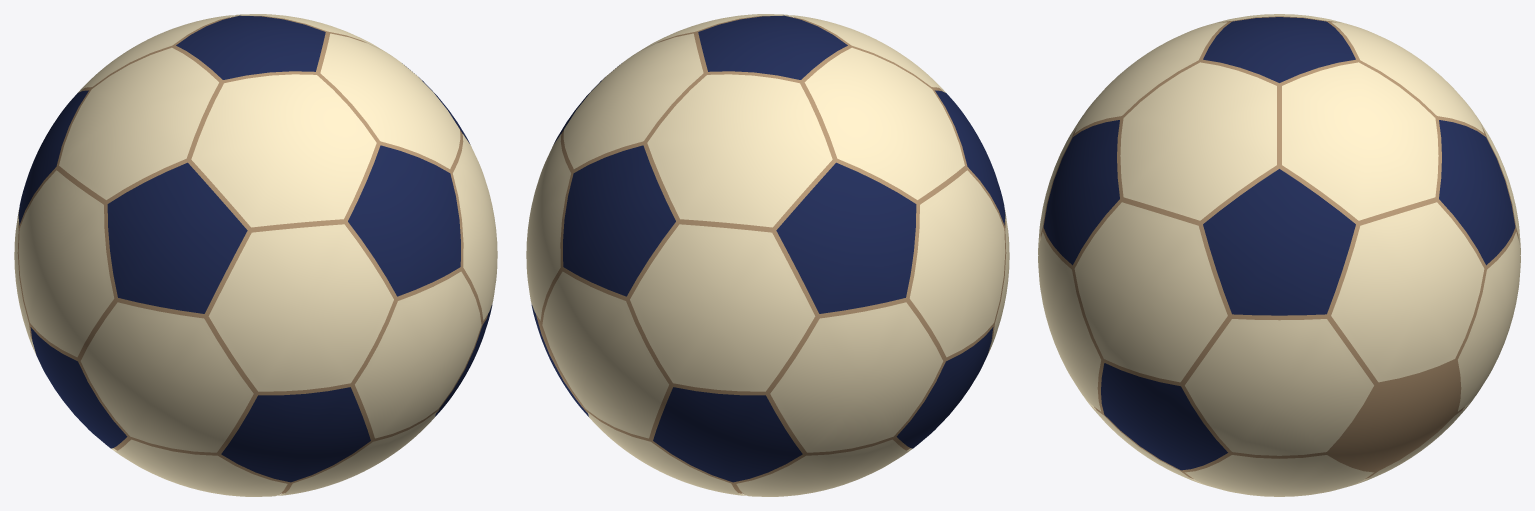
File: football.glb
3 views of the same model, side by side, from view 1: azimuth 30°, elevation 25°; view 2: azimuth 150°, elevation 25°; view 3: azimuth 270°, elevation 25° (orthographic).
Visible parts, largest first — view 1: Football cream hexagons and navy pentagons, Football recessed seams; view 2: Football cream hexagons and navy pentagons, Football recessed seams; view 3: Football cream hexagons and navy pentagons, Football recessed seams.
Part boxes in pixels (bbox=[...]): Football cream hexagons and navy pentagons: bbox=[14, 14, 497, 496]; Football recessed seams: bbox=[17, 16, 487, 493]; Football cream hexagons and navy pentagons: bbox=[526, 14, 1009, 496]; Football recessed seams: bbox=[536, 16, 1006, 493]; Football cream hexagons and navy pentagons: bbox=[1038, 14, 1520, 496]; Football recessed seams: bbox=[1040, 16, 1518, 479].
Bounding box in the file's own units: 0.032 × 0.032 × 0.032.
